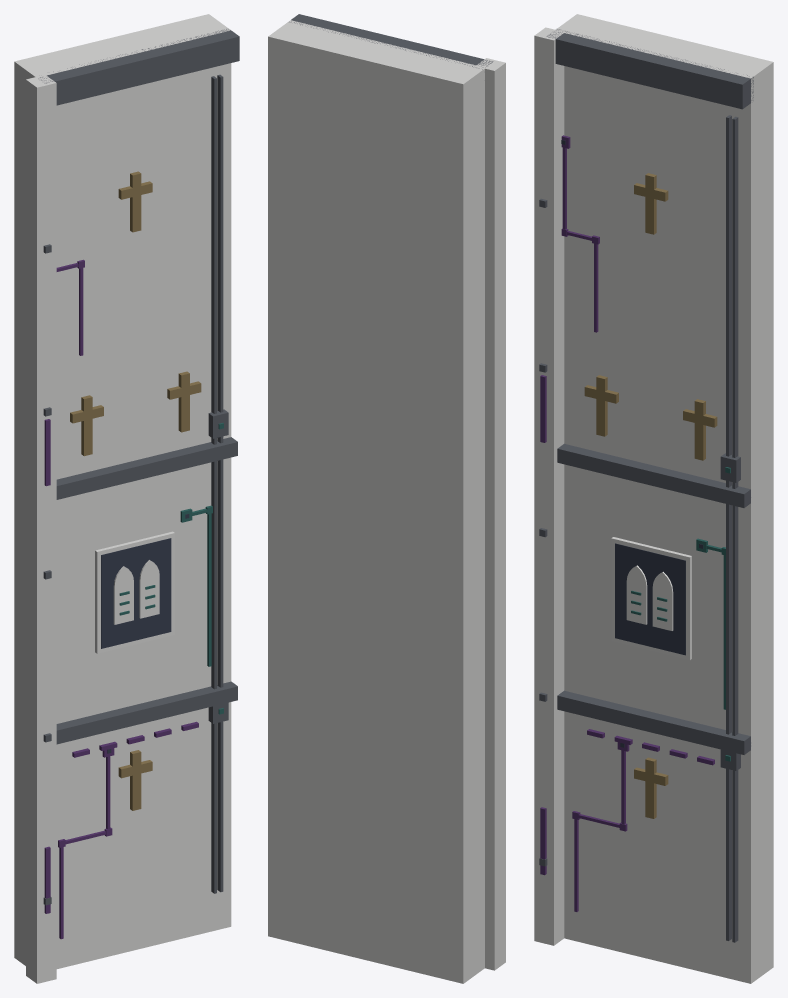
File: Wall_PlainB.fbx
3 renders of one model, left to right at view 1: azimuth 30°, elevation 25°; view 2: azimuth 150°, elevation 25°; view 3: azimuth 330°, elevation 25°, orthographic.
Parts seen in each view (by area): view 1: SM_Wall_PlainB; view 2: SM_Wall_PlainB; view 3: SM_Wall_PlainB.
Part boxes in pixels (bbox=[...]): SM_Wall_PlainB: bbox=[14, 14, 239, 983]; SM_Wall_PlainB: bbox=[268, 14, 505, 983]; SM_Wall_PlainB: bbox=[534, 14, 773, 983].
Size of the model in its own units: 5.25 by 22 by 1.53.
